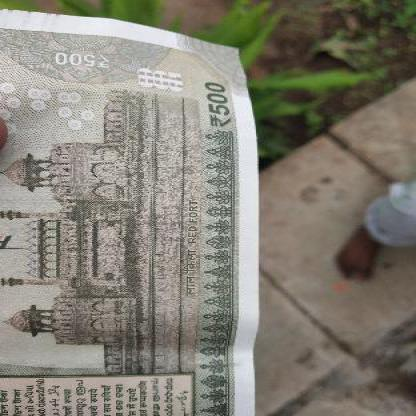New500Back: (0, 16, 260, 415)
